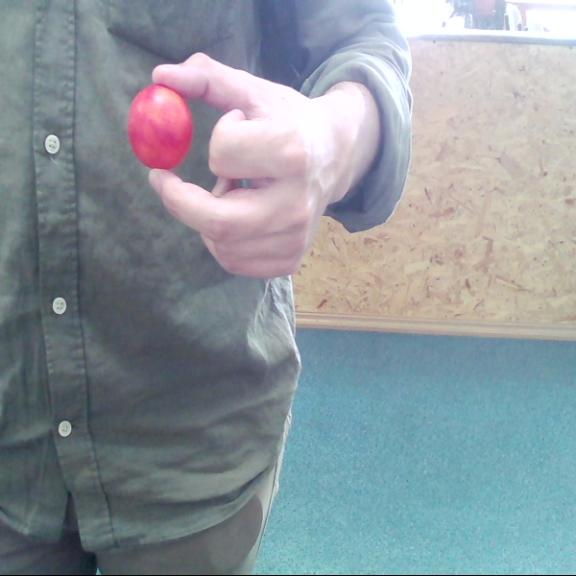ball: (126, 85, 196, 171)
